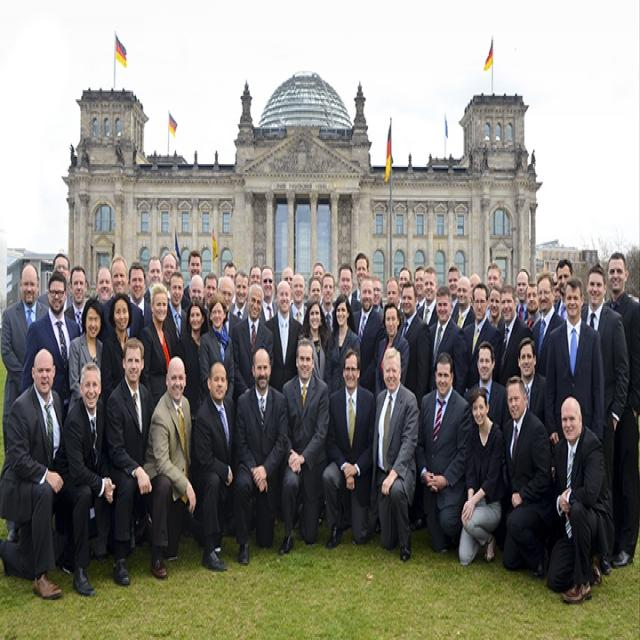body: (0, 344, 67, 600), (580, 260, 631, 578), (52, 362, 116, 599), (0, 259, 49, 547), (231, 343, 291, 566), (104, 335, 156, 587), (546, 399, 609, 606), (319, 346, 380, 553), (414, 350, 474, 556), (603, 248, 640, 570), (278, 336, 332, 556), (367, 344, 421, 564), (500, 372, 556, 581), (146, 355, 196, 581), (542, 275, 606, 449), (187, 356, 237, 575), (452, 382, 507, 568), (21, 269, 83, 424), (396, 278, 432, 533), (64, 134, 227, 178), (231, 282, 276, 408), (500, 334, 550, 442), (263, 278, 307, 396), (138, 282, 178, 411), (382, 142, 538, 174), (66, 294, 106, 417), (491, 282, 535, 392), (428, 284, 468, 398), (461, 281, 503, 389), (100, 290, 134, 420), (462, 340, 510, 432), (99, 254, 145, 350), (198, 292, 235, 410), (325, 291, 363, 402), (530, 271, 568, 378), (351, 276, 382, 399), (297, 297, 333, 398), (374, 300, 410, 399), (179, 297, 209, 415), (34, 251, 76, 324), (161, 269, 193, 362), (142, 254, 174, 328), (62, 263, 90, 342), (377, 275, 408, 341), (127, 260, 153, 328), (217, 273, 243, 340), (180, 248, 206, 310), (330, 260, 362, 309), (416, 265, 440, 328), (346, 250, 371, 309), (452, 274, 476, 331), (317, 270, 337, 336), (553, 257, 574, 316), (229, 268, 251, 322), (159, 246, 181, 298), (260, 265, 279, 325), (289, 272, 309, 327), (514, 266, 532, 325), (522, 280, 542, 332), (446, 264, 462, 326), (95, 265, 114, 306), (412, 264, 427, 314), (486, 284, 502, 329), (371, 275, 385, 322), (202, 272, 218, 313), (187, 273, 205, 306), (485, 262, 503, 294), (280, 266, 295, 303), (468, 270, 482, 308), (398, 264, 414, 296), (306, 272, 322, 303), (247, 263, 262, 290), (222, 257, 238, 281), (312, 260, 326, 282), (332, 279, 341, 303), (552, 280, 559, 298)
